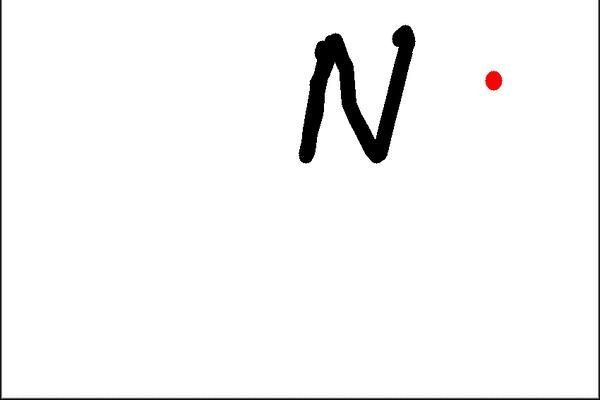N: (294, 22, 419, 172)
